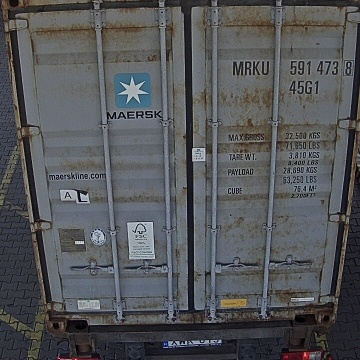serial_id: (233, 60, 353, 75)
